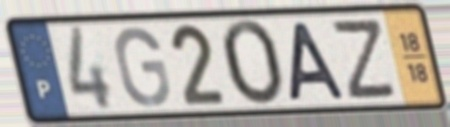2: (171, 20, 232, 110)
4: (65, 24, 117, 115)
A: (286, 19, 350, 104)
G: (112, 24, 173, 110)
O: (217, 17, 287, 109)
Z: (330, 16, 400, 102)
